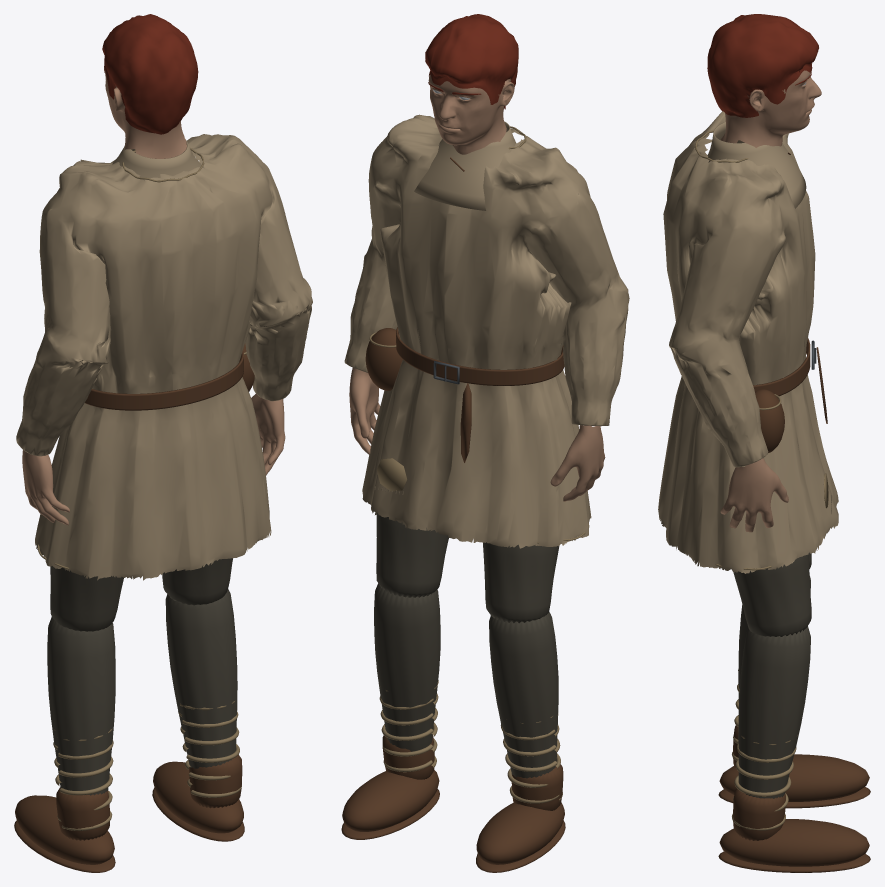
The model's file is villager.glb.
3 renders of one model, left to right at view 1: azimuth 30°, elevation 25°; view 2: azimuth 150°, elevation 25°; view 3: azimuth 270°, elevation 25°, orthographic. The views are drawn at different scales.
Parts seen in each view (by area): view 1: Hemp_knee_tunic_static, Wool_hose_calf_l_static, Wool_hose_calf_r_static, villager_anatomy.short02_static, villager_FaceAndHands_static, Wool_hose_thigh_l_static, Turnshoe_l_static, Turnshoe_r_static, Leather_girdle_static, Wool_hose_thigh_r_static, Ankle_leather_l_static, Ankle_leather_r_static (+3 smaller); view 2: Hemp_knee_tunic_static, Wool_hose_calf_l_static, Wool_hose_calf_r_static, villager_FaceAndHands_static, villager_anatomy.short02_static, Wool_hose_thigh_l_static, Wool_hose_thigh_r_static, Folded_neck_binding_static, Turnshoe_r_static, Turnshoe_l_static, Leather_girdle_static, Drawstring_purse_static (+6 smaller); view 3: Hemp_knee_tunic_static, Wool_hose_calf_r_static, villager_anatomy.short02_static, villager_FaceAndHands_static, Turnshoe_r_static, Wool_hose_thigh_r_static, Turnshoe_l_static, Folded_neck_binding_static, Ankle_leather_r_static, Drawstring_purse_static, Leather_sole_r_static, Leather_girdle_static (+2 smaller).
Part boxes in pixels (left/top/right/bottom): Hemp_knee_tunic_static: left=16, top=134, right=312, bottom=580; Wool_hose_calf_l_static: left=47, top=617, right=115, bottom=795; Wool_hose_calf_r_static: left=165, top=589, right=237, bottom=768; villager_anatomy.short02_static: left=102, top=14, right=198, bottom=134; villager_FaceAndHands_static: left=22, top=67, right=285, bottom=525; Wool_hose_thigh_l_static: left=50, top=566, right=123, bottom=631; Turnshoe_l_static: left=15, top=795, right=114, bottom=864; Turnshoe_r_static: left=153, top=761, right=243, bottom=833; Leather_girdle_static: left=85, top=350, right=243, bottom=410; Wool_hose_thigh_r_static: left=162, top=558, right=232, bottom=605; Ankle_leather_l_static: left=56, top=787, right=109, bottom=840; Ankle_leather_r_static: left=189, top=754, right=242, bottom=808; Hemp_knee_tunic_static: left=344, top=114, right=629, bottom=548; Wool_hose_calf_l_static: left=489, top=612, right=558, bottom=778; Wool_hose_calf_r_static: left=374, top=583, right=440, bottom=751; villager_FaceAndHands_static: left=349, top=74, right=605, bottom=501; villager_anatomy.short02_static: left=425, top=14, right=518, bottom=109; Wool_hose_thigh_l_static: left=483, top=542, right=559, bottom=623; Wool_hose_thigh_r_static: left=376, top=513, right=448, bottom=597; Folded_neck_binding_static: left=414, top=121, right=516, bottom=210; Turnshoe_r_static: left=342, top=770, right=439, bottom=831; Turnshoe_l_static: left=476, top=802, right=564, bottom=864; Leather_girdle_static: left=396, top=327, right=564, bottom=385; Drawstring_purse_static: left=365, top=328, right=402, bottom=390; Hemp_knee_tunic_static: left=658, top=111, right=838, bottom=573; Wool_hose_calf_r_static: left=738, top=626, right=810, bottom=798; villager_anatomy.short02_static: left=707, top=14, right=818, bottom=117; villager_FaceAndHands_static: left=720, top=63, right=821, bottom=532; Turnshoe_r_static: left=719, top=819, right=869, bottom=866; Wool_hose_thigh_r_static: left=733, top=554, right=811, bottom=636; Turnshoe_l_static: left=719, top=754, right=869, bottom=801; Folded_neck_binding_static: left=707, top=122, right=806, bottom=208; Ankle_leather_r_static: left=733, top=788, right=785, bottom=840; Drawstring_purse_static: left=755, top=389, right=784, bottom=452; Leather_sole_r_static: left=718, top=851, right=870, bottom=872; Leather_girdle_static: left=680, top=338, right=810, bottom=396.
Bounding box in the file's own units: 0.6041 × 1.75 × 0.4147.
